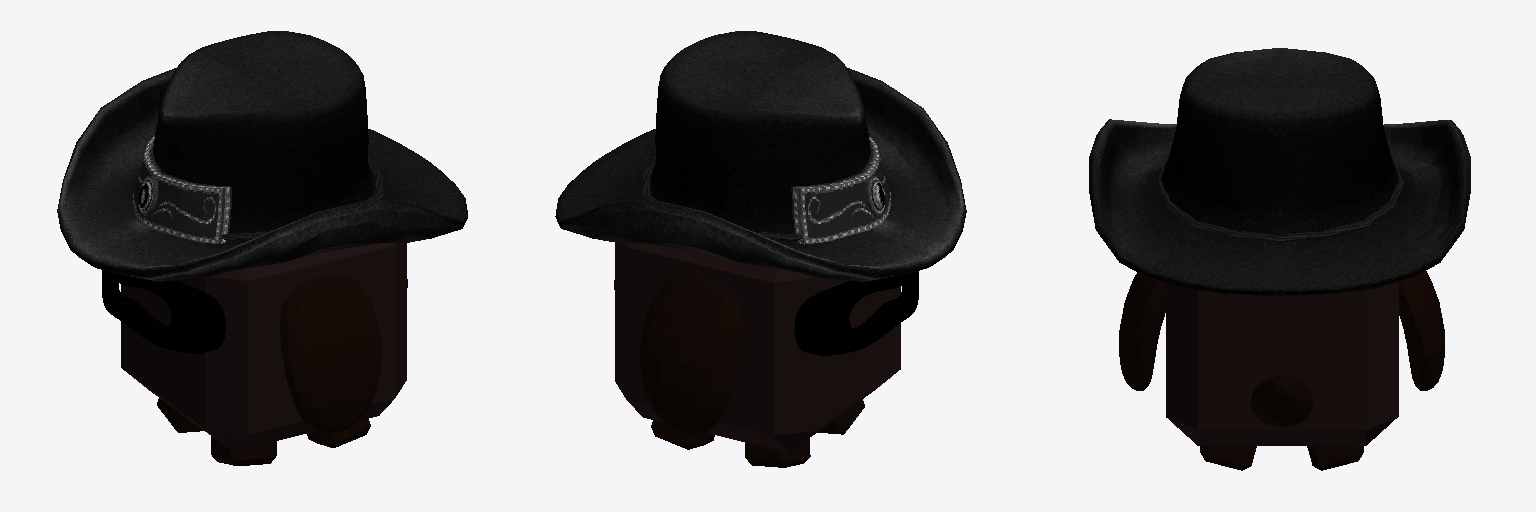
The picture shows the model from 3 angles: view 1: azimuth 30°, elevation 25°; view 2: azimuth 150°, elevation 25°; view 3: azimuth 270°, elevation 25°; orthographic projection.
Visible parts, largest first — view 1: Handle1, Meshesbgcdoggy2, Meshesbgcdoggy1, Handle2, Meshesbgcdoggy3; view 2: Handle1, Meshesbgcdoggy2, Meshesbgcdoggy1, Handle2, Meshesbgcdoggy3; view 3: Handle1, Meshesbgcdoggy2, Meshesbgcdoggy1, Meshesbgcdoggy3.
Part boxes in pixels (x1,y1,x2,y2): Handle1: (57, 31, 467, 281); Meshesbgcdoggy2: (121, 243, 406, 451); Meshesbgcdoggy1: (280, 274, 407, 433); Handle2: (102, 270, 225, 353); Meshesbgcdoggy3: (157, 398, 370, 465); Handle1: (555, 31, 966, 281); Meshesbgcdoggy2: (615, 243, 900, 452); Meshesbgcdoggy1: (614, 276, 741, 434); Handle2: (794, 271, 918, 355); Meshesbgcdoggy3: (651, 399, 864, 467); Handle1: (1089, 48, 1470, 295); Meshesbgcdoggy2: (1166, 282, 1398, 445); Meshesbgcdoggy1: (1119, 271, 1444, 427); Meshesbgcdoggy3: (1200, 446, 1363, 470).
Bounding box in the file's own units: 4.78 × 4.79 × 4.52.
Materials: 4 (1 with a texture image).